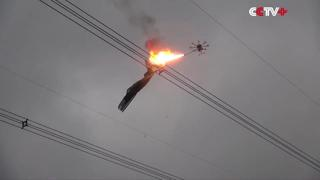UAV: (184, 41, 209, 56)
